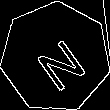N_NW: (25, 25, 86, 89)
